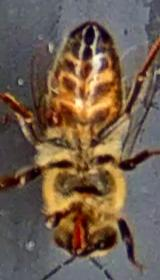varroa_mite: (31, 96, 73, 131)
